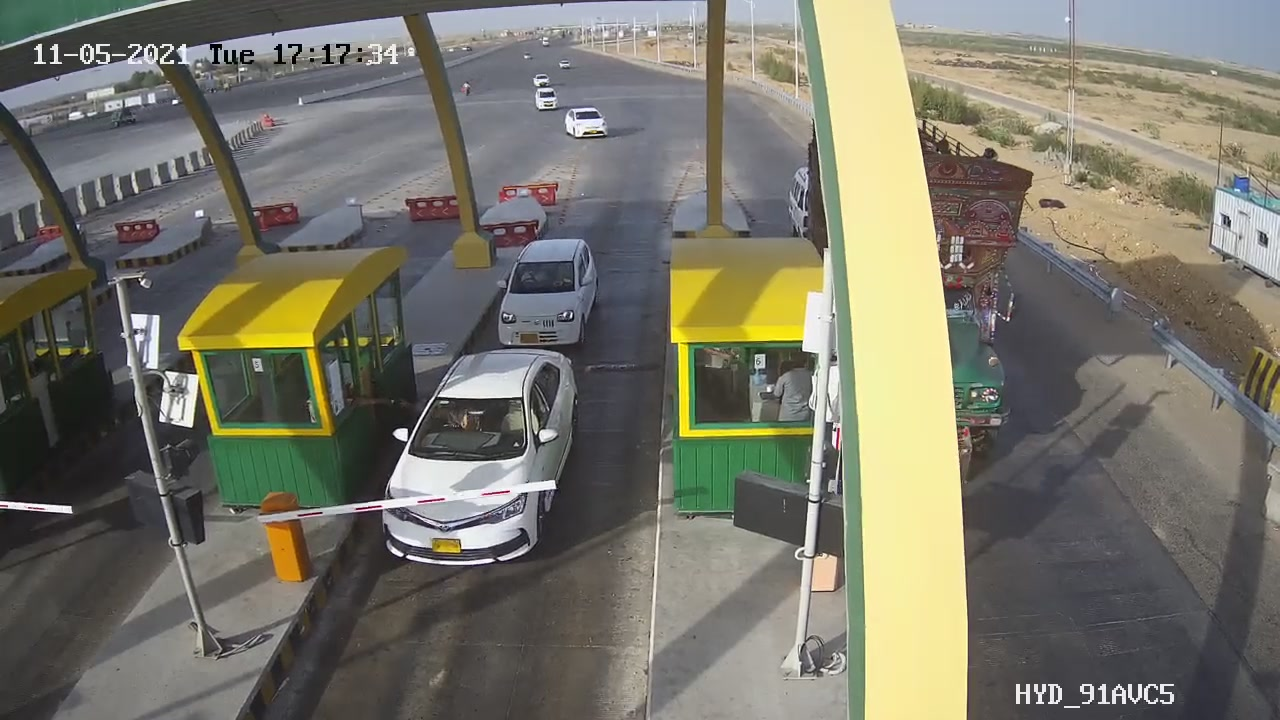F1: (368, 342, 596, 582), (477, 226, 620, 355)
